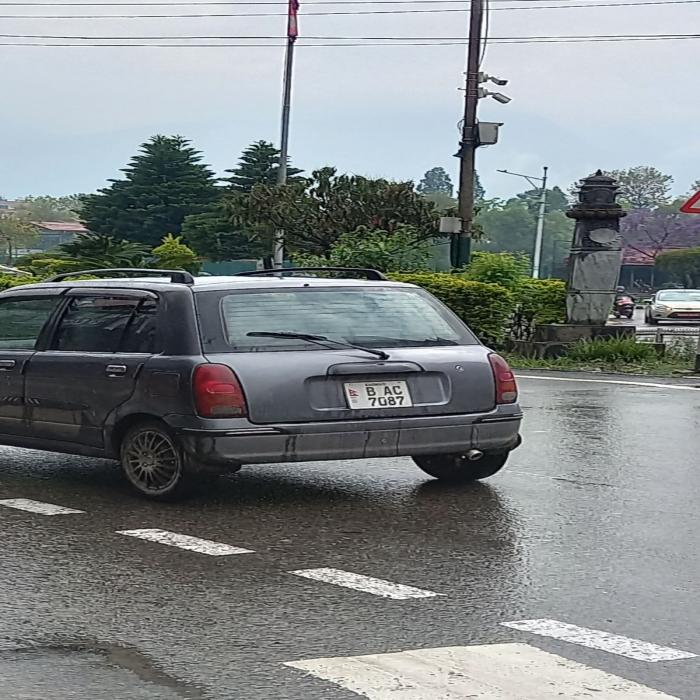number_plate: (343, 382, 410, 406)
